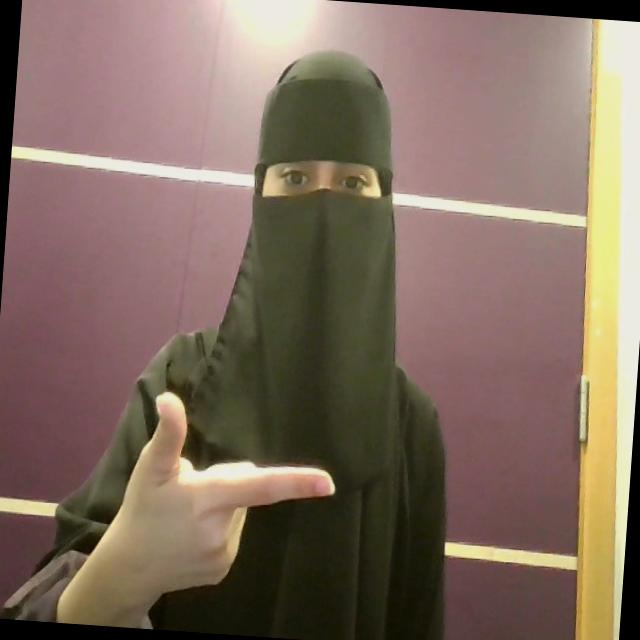dispensing: (53, 382, 341, 640)
